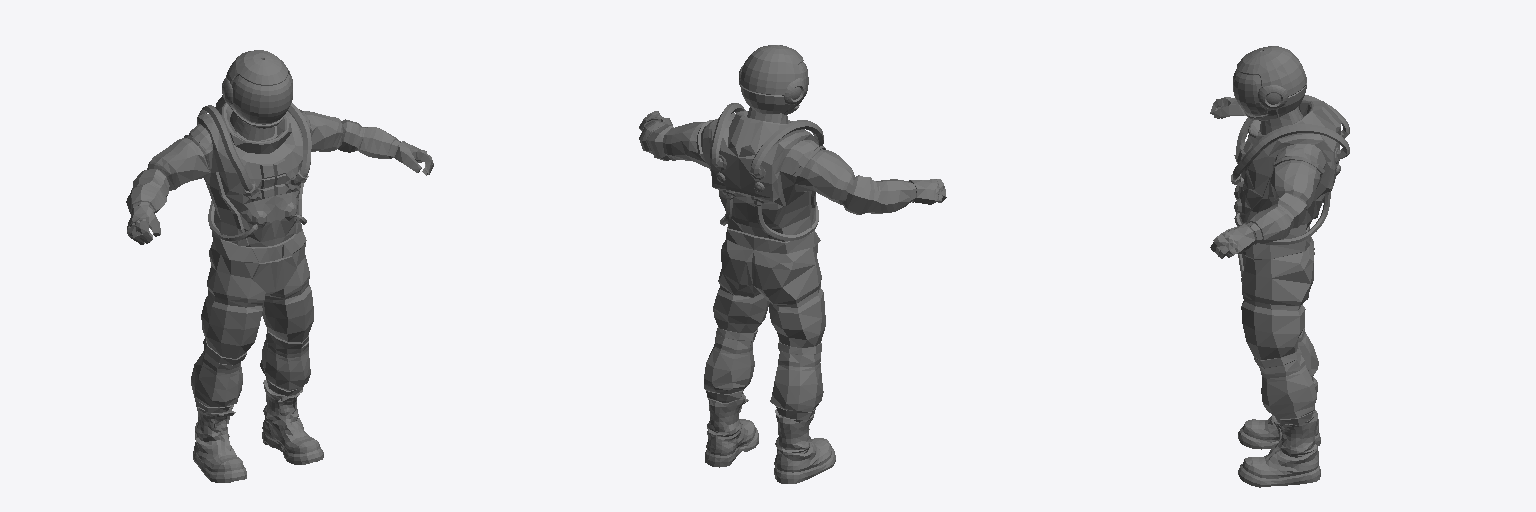
The model's file is Astronaut3.obj.
The picture shows the model from 3 angles: view 1: azimuth 30°, elevation 25°; view 2: azimuth 150°, elevation 25°; view 3: azimuth 270°, elevation 25°; orthographic projection.
Parts seen in each view (by area): view 1: Mesh; view 2: Mesh; view 3: Mesh.
Part boxes in pixels (x1,y1,x2,y2): Mesh: (126,50,433,482); Mesh: (639,45,946,483); Mesh: (1210,46,1349,487).
Size of the model in its own units: 2.9 by 3.78 by 1.16.